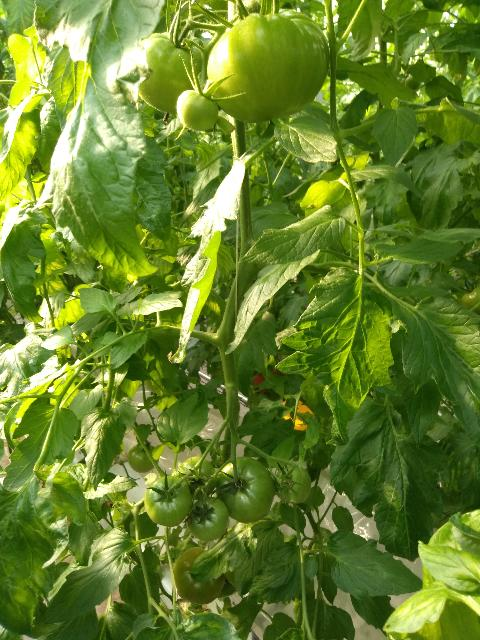b_green: (206, 7, 330, 124), (133, 31, 214, 115), (215, 456, 277, 523), (173, 547, 224, 605), (145, 476, 192, 527), (186, 496, 230, 542), (177, 457, 217, 501), (177, 90, 219, 131), (273, 466, 311, 505), (127, 443, 159, 473)
